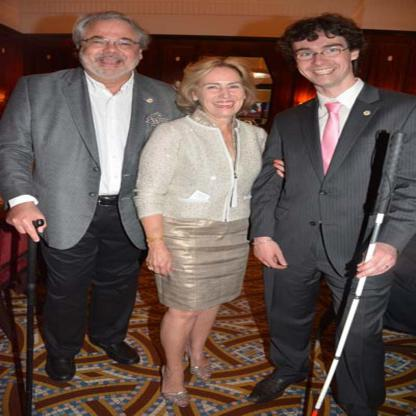face: (83, 18, 141, 82), (298, 33, 351, 86), (197, 68, 247, 117)
